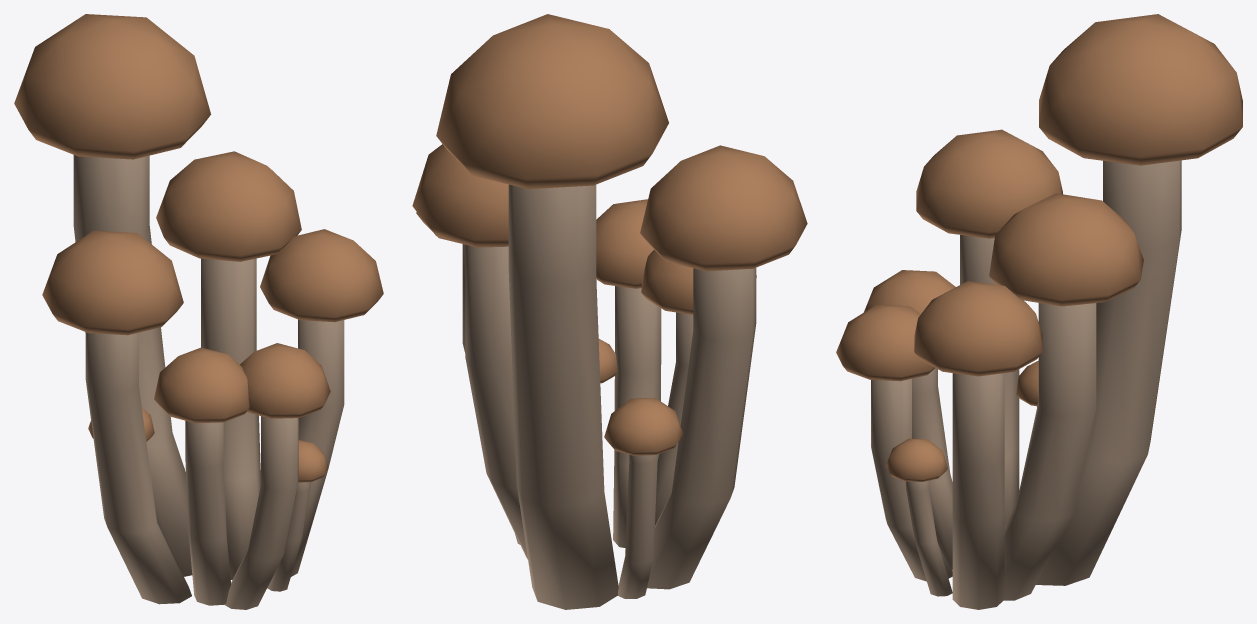
File: Agaricales_big.fbx
3 renders of one model, left to right at view 1: azimuth 30°, elevation 25°; view 2: azimuth 150°, elevation 25°; view 3: azimuth 270°, elevation 25°, orthographic. The views are drawn at different scales.
Parts seen in each view (by area): view 1: Agaricales_big; view 2: Agaricales_big; view 3: Agaricales_big.
Part boxes in pixels (left/top/right/bottom): Agaricales_big: left=14, top=14, right=383, bottom=609; Agaricales_big: left=412, top=14, right=807, bottom=609; Agaricales_big: left=836, top=14, right=1242, bottom=609.
Bounding box in the file's own units: 23.85 × 37.03 × 25.4.
